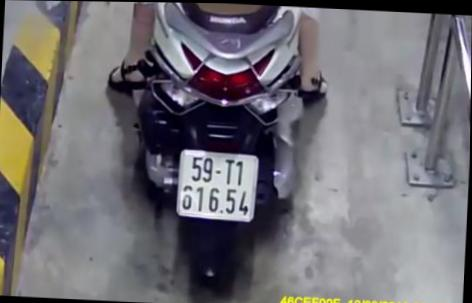LP: (176, 147, 260, 224)
